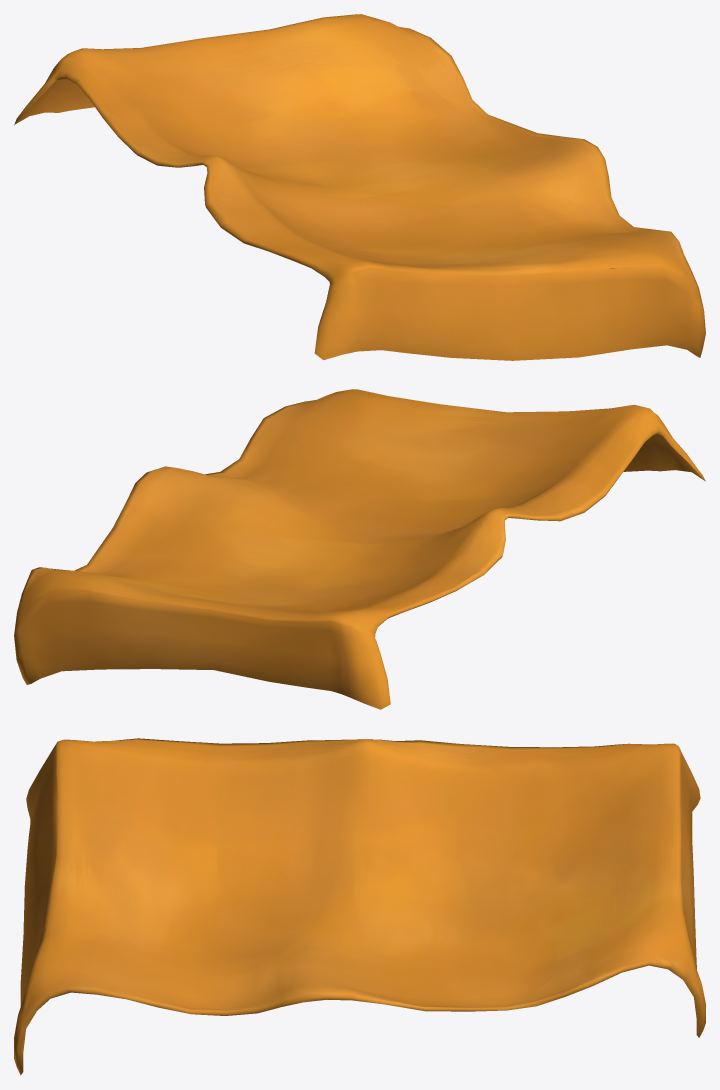
3 views of the same model, one above another, from view 1: azimuth 30°, elevation 25°; view 2: azimuth 150°, elevation 25°; view 3: azimuth 270°, elevation 25° (orthographic). The views are drawn at different scales.
Parts seen in each view (by area): view 1: tripo_node_849be299-6e1d-47c2-bdae-ded81fc24d71; view 2: tripo_node_849be299-6e1d-47c2-bdae-ded81fc24d71; view 3: tripo_node_849be299-6e1d-47c2-bdae-ded81fc24d71.
Part boxes in pixels (left/top/right/bottom): tripo_node_849be299-6e1d-47c2-bdae-ded81fc24d71: left=14, top=14, right=705, bottom=360; tripo_node_849be299-6e1d-47c2-bdae-ded81fc24d71: left=14, top=389, right=705, bottom=709; tripo_node_849be299-6e1d-47c2-bdae-ded81fc24d71: left=14, top=738, right=705, bottom=1075.
Size of the model in its own units: 0.7363 by 0.2676 by 0.998.
Materials: 1 (1 with a texture image).
